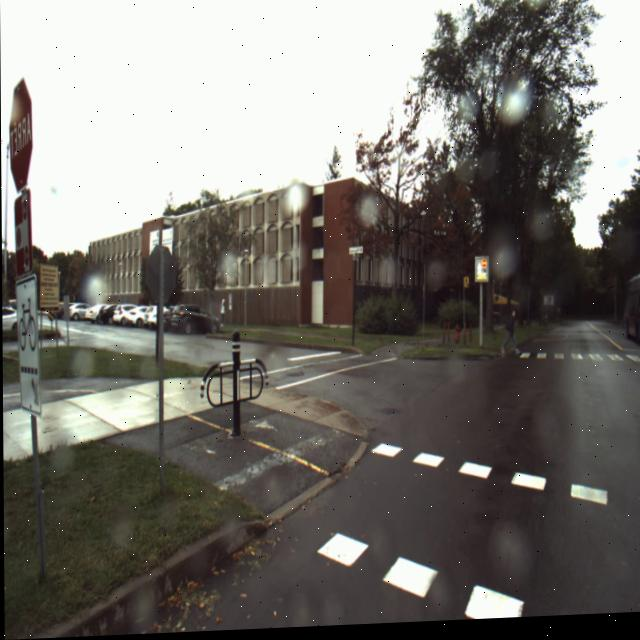pedestrian: (504, 314, 517, 358)
